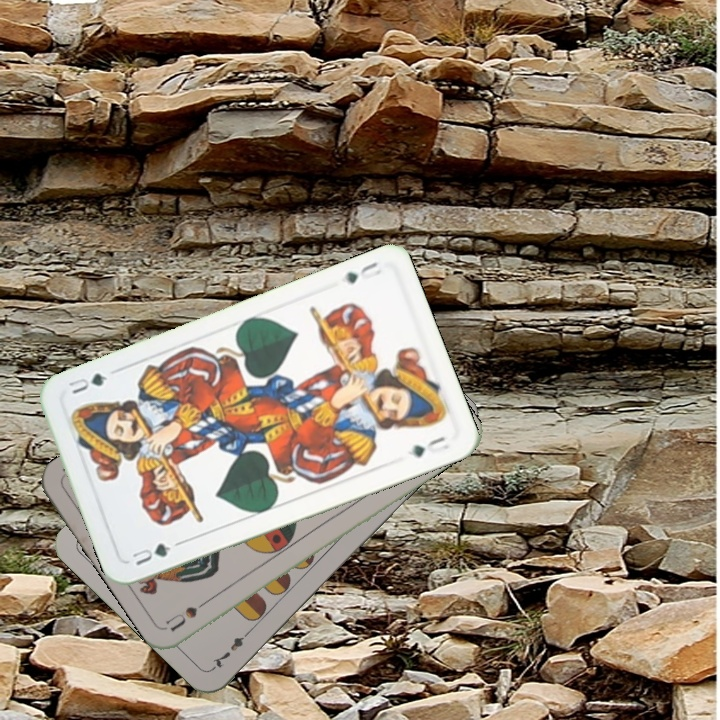E7: (208, 625, 254, 672)
GU: (127, 539, 174, 569), (340, 257, 385, 287)
SU: (162, 591, 217, 634)
